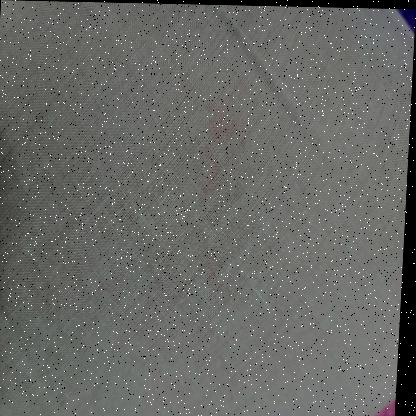spot: (197, 56, 259, 198), (202, 256, 241, 302)
